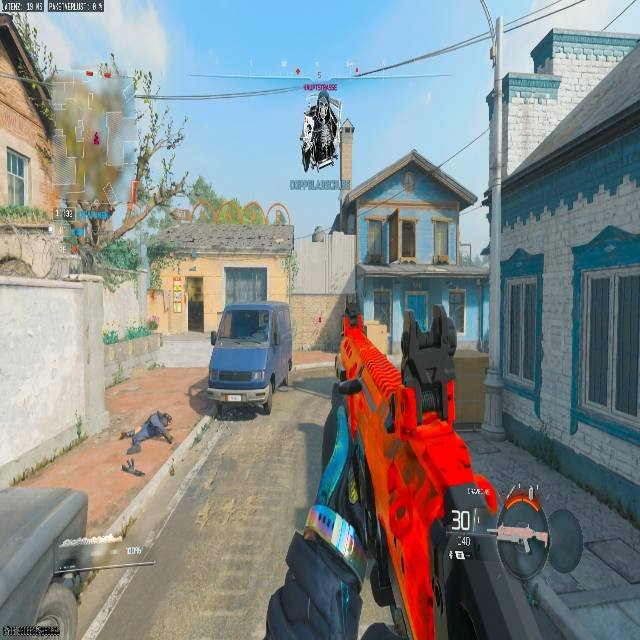head: (119, 429, 133, 440)
